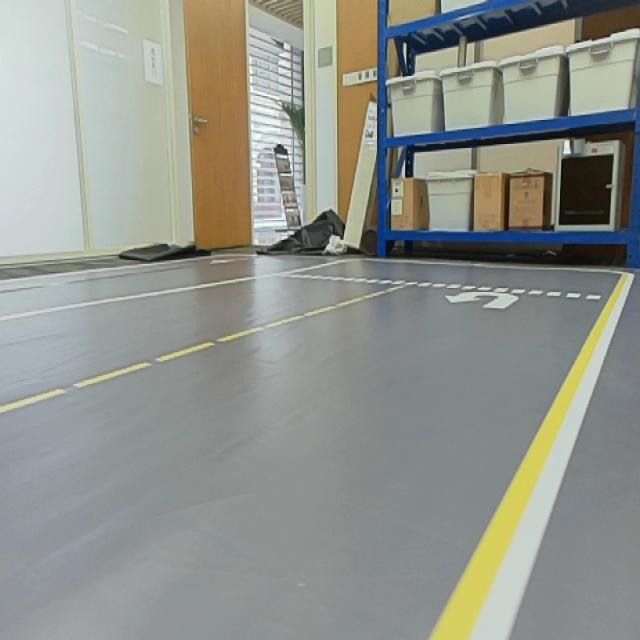left_lane: (0, 282, 420, 416)
right_lane: (425, 275, 636, 638), (0, 259, 345, 321)
